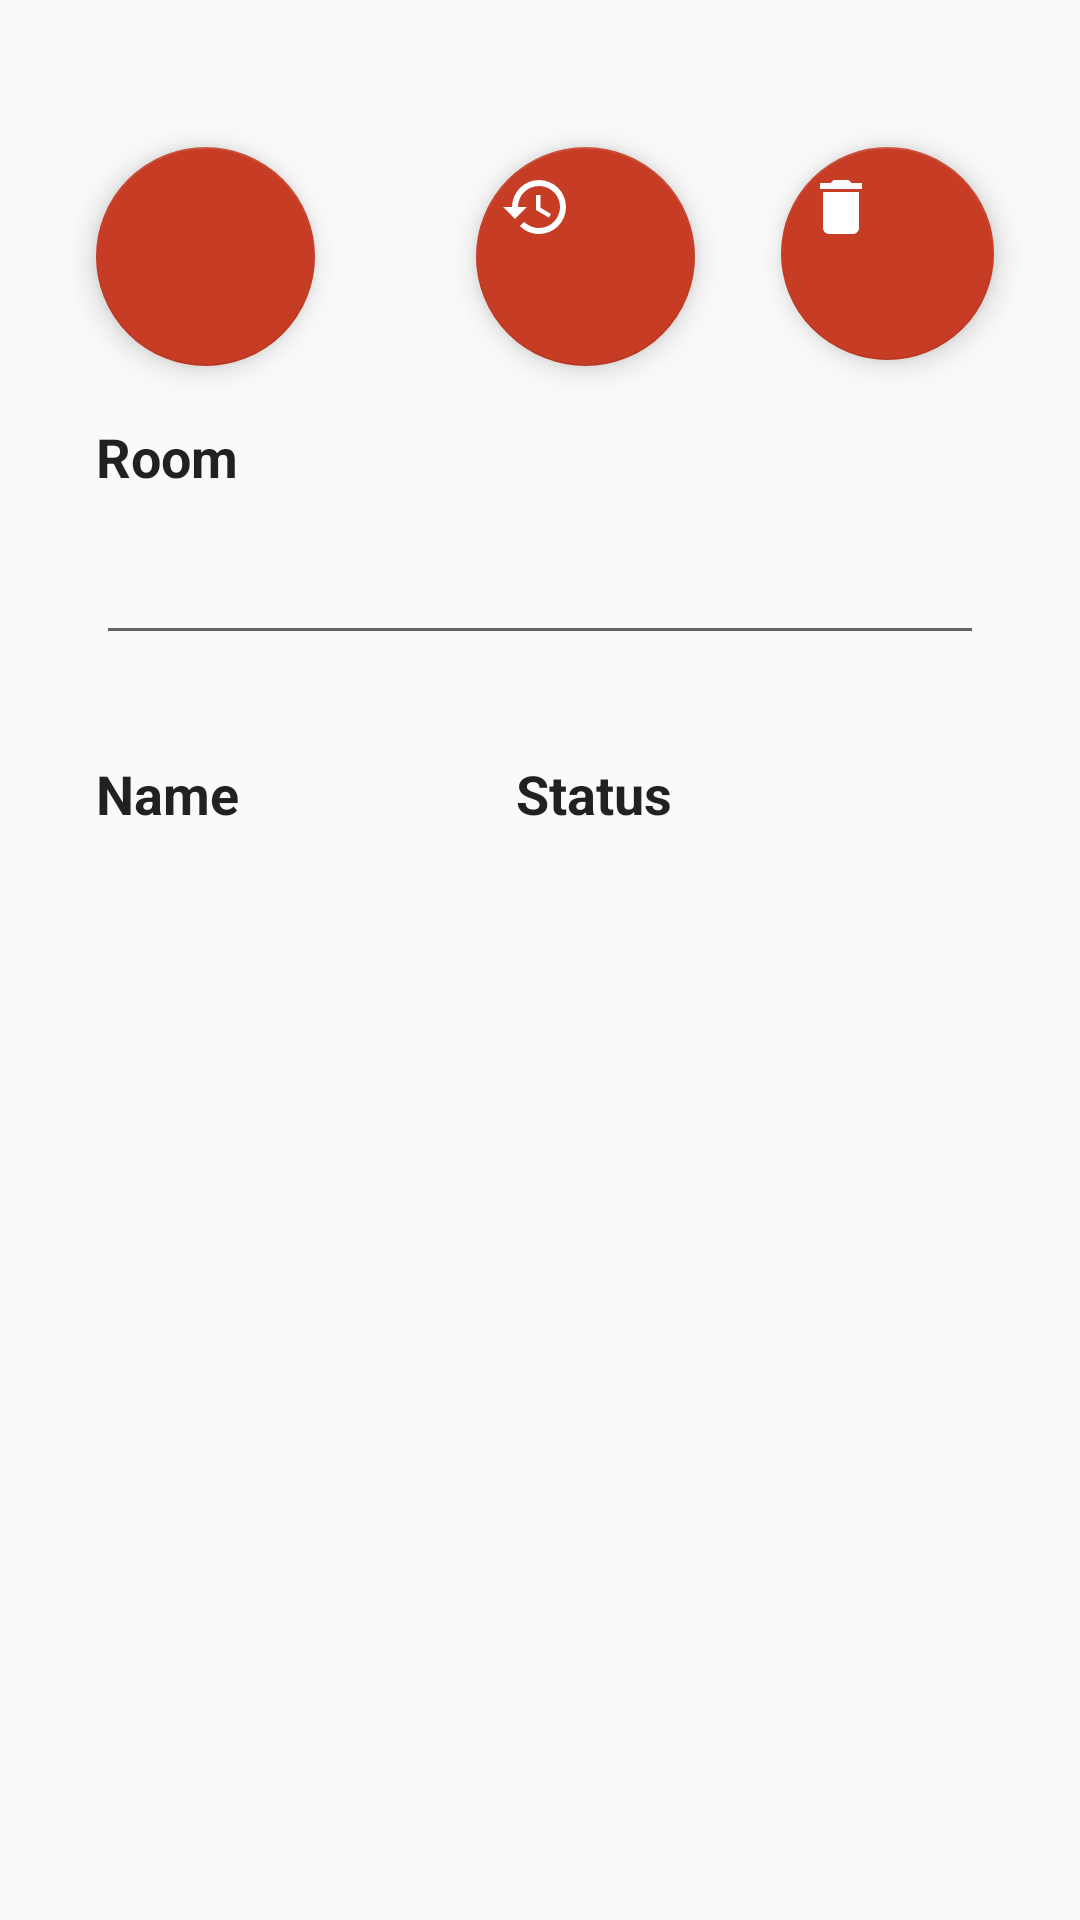

Icon click points for this 1080×1920 phone screenshot, format (x,y):
delete: (887,253)
update: (585,256)
